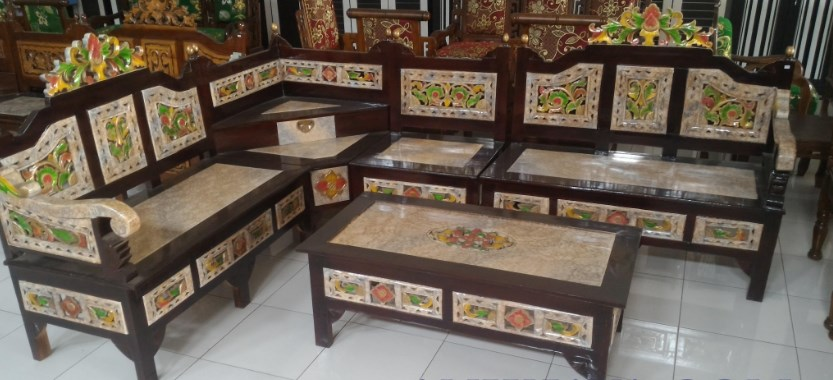Carving Table: (306, 185, 620, 379)
